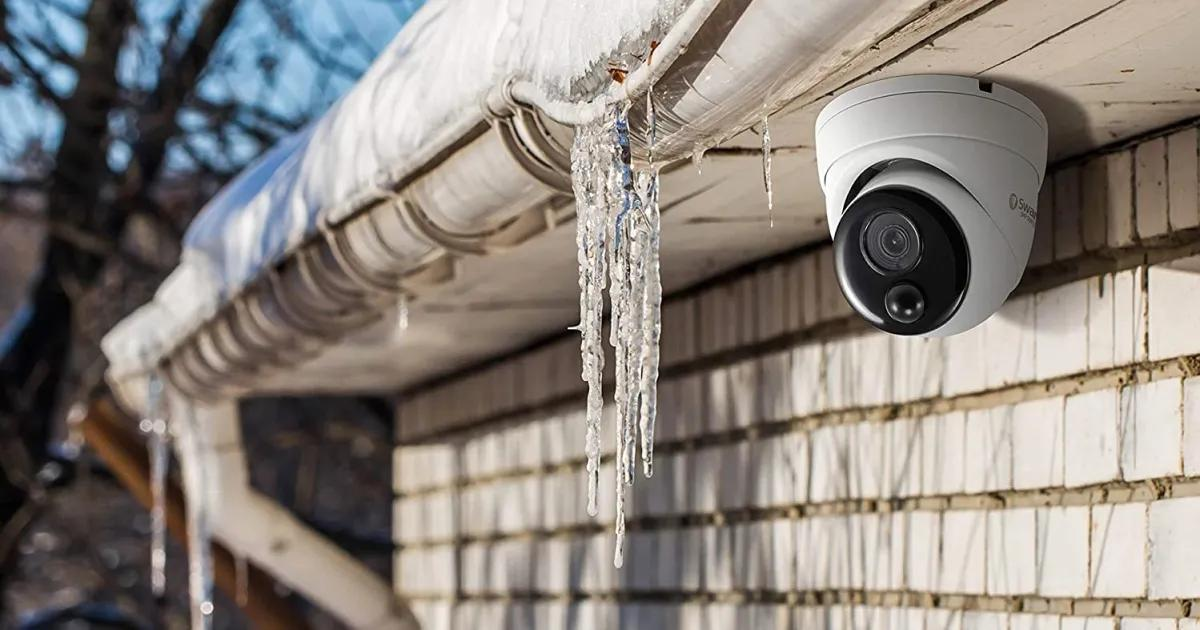camera: (745, 78, 1095, 380)
